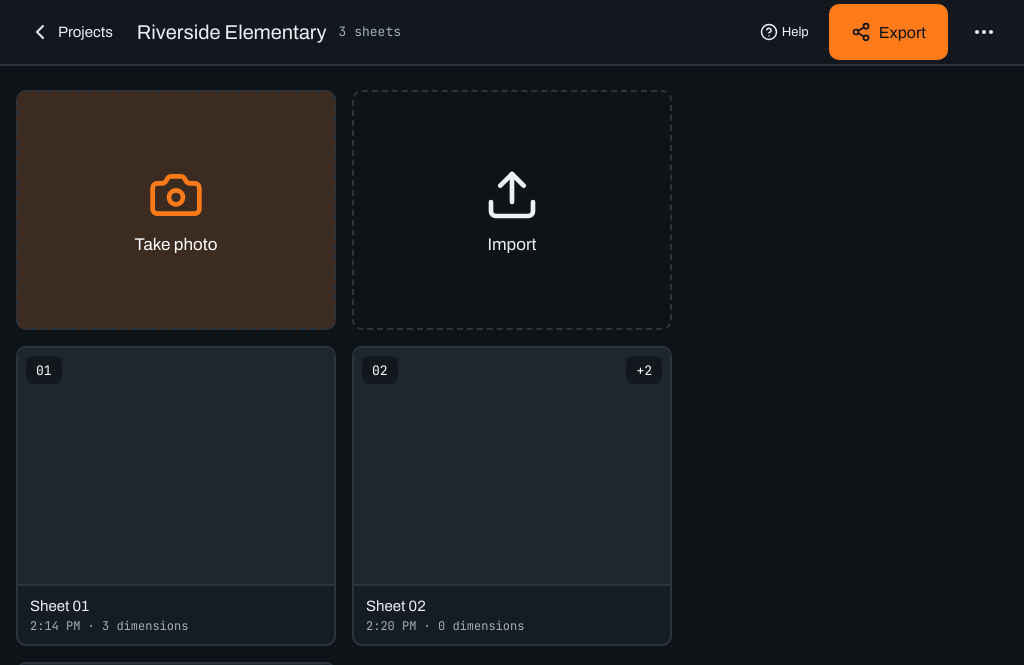
it: ⋯ → «Trash…» (UI §11.2:711; build spec §11.9:2029) › stays disabled when the shell cannot load the trash (D102, never hidden)
The image size is (1024, 665).
Click the button named "More actions" at (984, 32), box [960,8,1008,56]
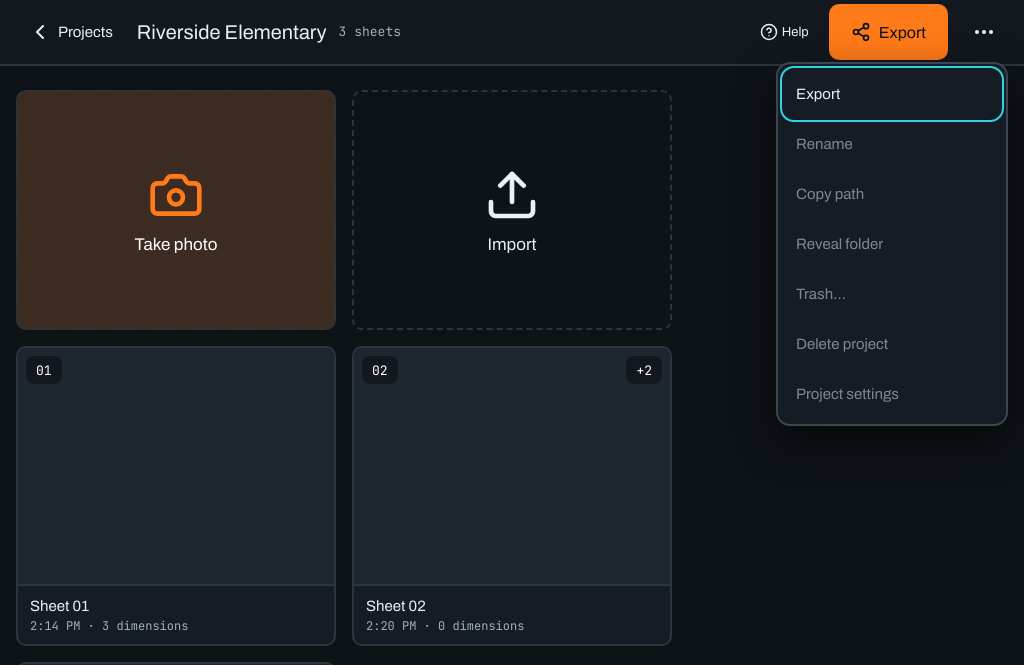
Check: the menu item "Trash…" is disabled, box [784,270,1000,318]
